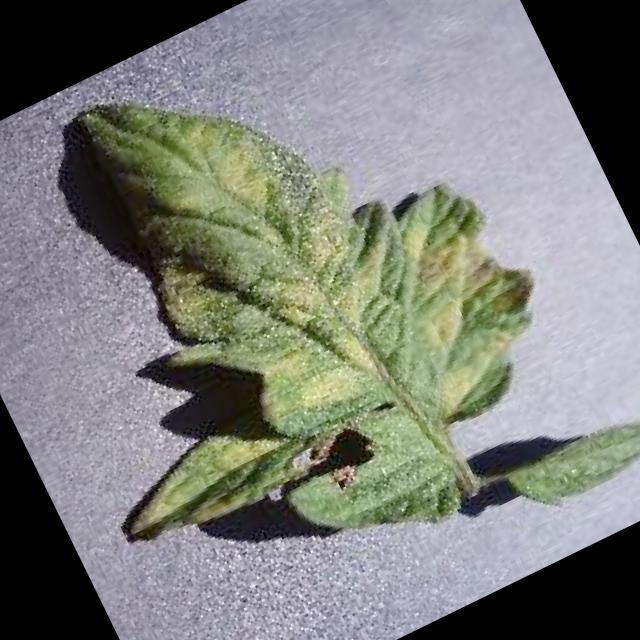Tomato mold leaf: (0, 0, 607, 632)
